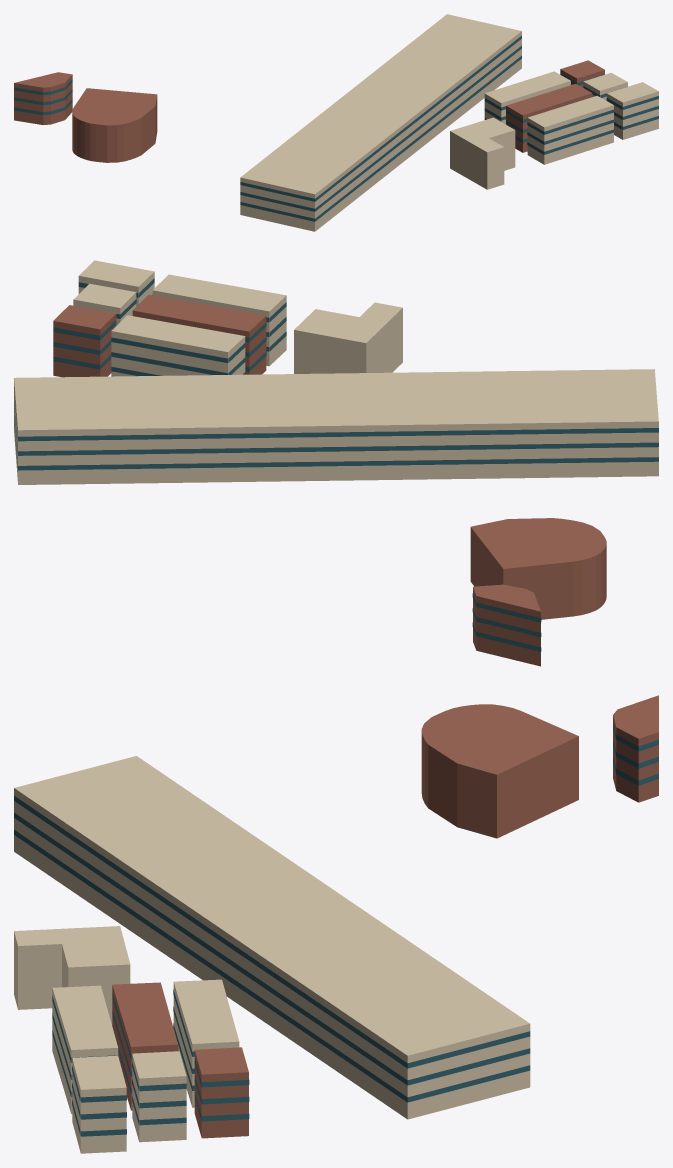
The model's file is city_-3_6.glb.
3 renders of one model, top to bottom at view 1: azimuth 30°, elevation 25°; view 2: azimuth 150°, elevation 25°; view 3: azimuth 270°, elevation 25°, orthographic. The views are drawn at different scales.
Parts seen in each view (by area): view 1: city_-3_6; view 2: city_-3_6; view 3: city_-3_6.
Part boxes in pixels (<box>): city_-3_6: <box>14,14,658,231</box>; city_-3_6: <box>14,260,658,666</box>; city_-3_6: <box>14,695,658,1153</box>.
Bounding box in the file's own units: 199 × 15 × 137.
